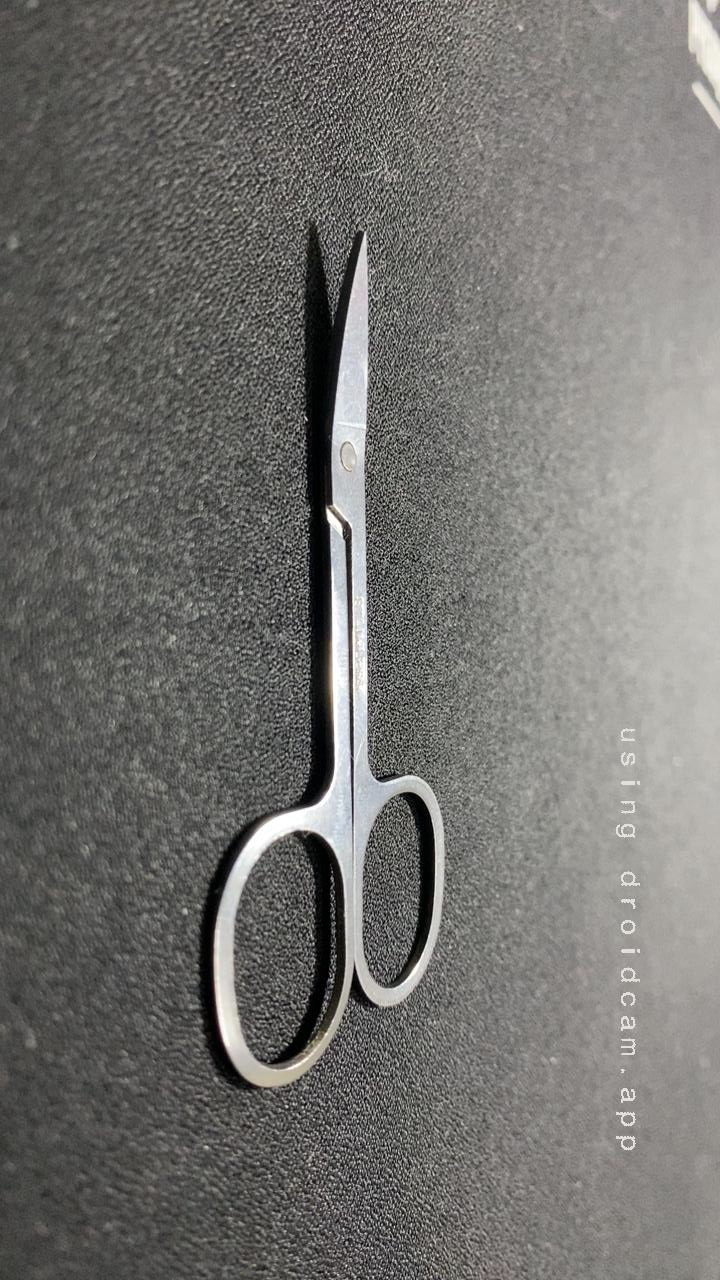scissor: (123, 566, 517, 1090)
